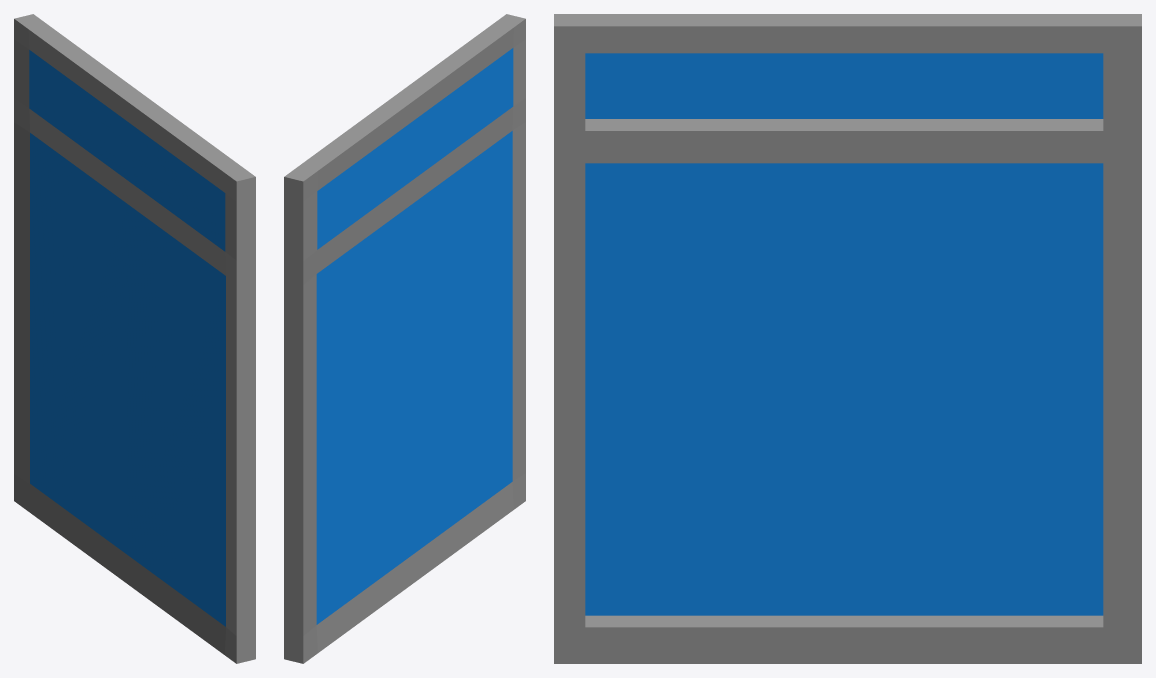
The model's file is ventana.fbx.
3 renders of one model, left to right at view 1: azimuth 30°, elevation 25°; view 2: azimuth 150°, elevation 25°; view 3: azimuth 270°, elevation 25°, orthographic. The views are drawn at different scales.
Parts seen in each view (by area): view 1: Cubo.001; view 2: Cubo.001; view 3: Cubo.001.
Boxes of the visible parts, x1=… form: Cubo.001: x1=14, y1=14, x2=255, y2=663; Cubo.001: x1=284, y1=14, x2=525, y2=663; Cubo.001: x1=554, y1=14, x2=1141, y2=663.
Bounding box in the file's own units: 100 × 2393 × 2000.
